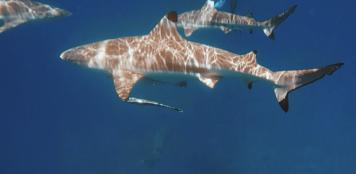Shark -Selachimorpha-: (59, 10, 347, 113), (172, 0, 300, 38), (0, 0, 72, 33)
